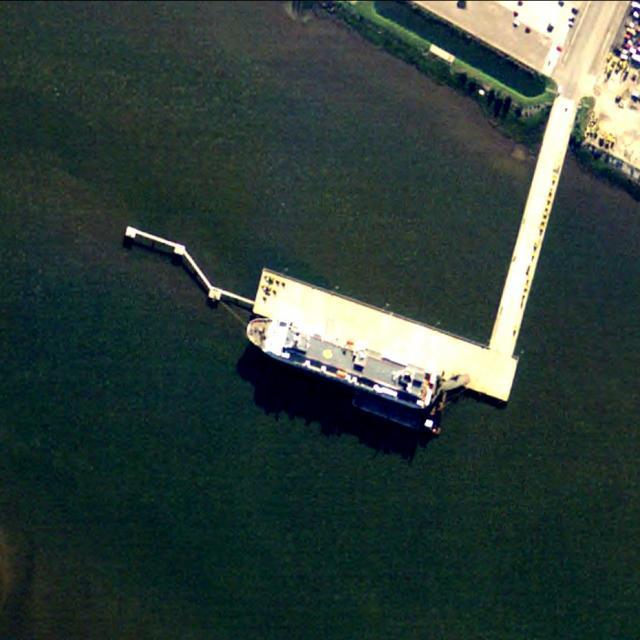Dock: (245, 268, 522, 403)
RoRo: (238, 309, 449, 416)
